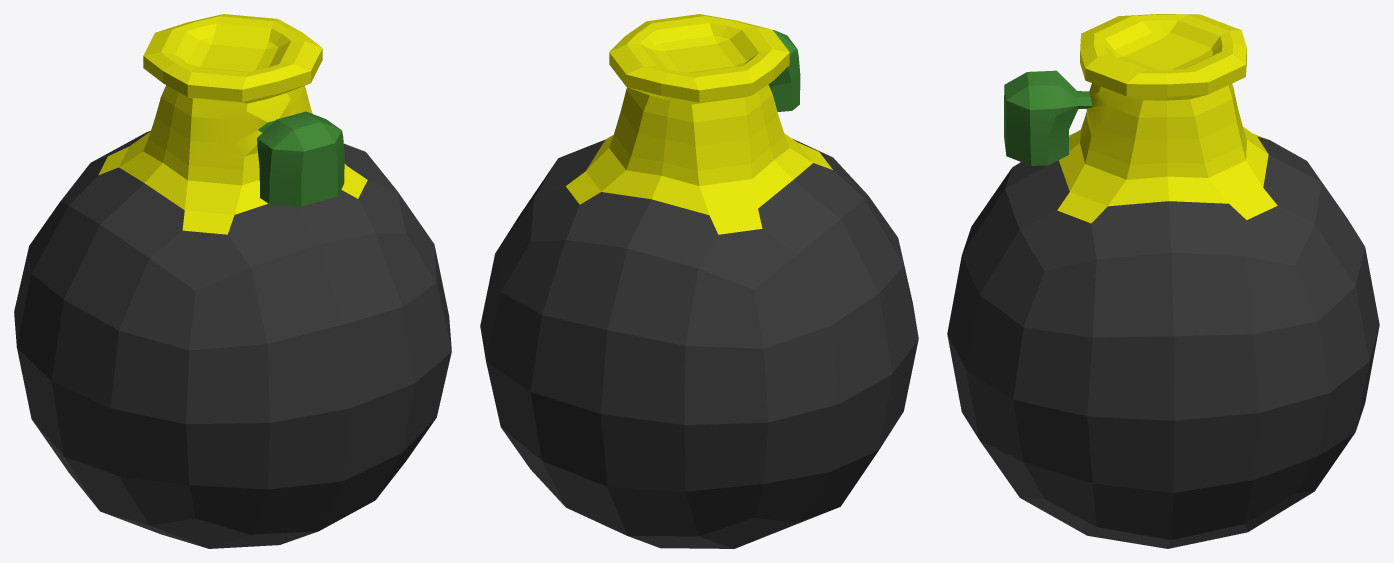
File: Bomb.fbx
The picture shows the model from 3 angles, left to right: view 1: azimuth 30°, elevation 25°; view 2: azimuth 150°, elevation 25°; view 3: azimuth 270°, elevation 25°; orthographic projection.
Parts seen in each view (by area): view 1: pCube5; view 2: pCube5; view 3: pCube5.
Part boxes in pixels (x1,y1,x2,y2): pCube5: (14, 14, 451, 548); pCube5: (480, 14, 918, 548); pCube5: (947, 14, 1379, 548).
Size of the model in its own units: 3.65 by 4.49 by 3.65.
